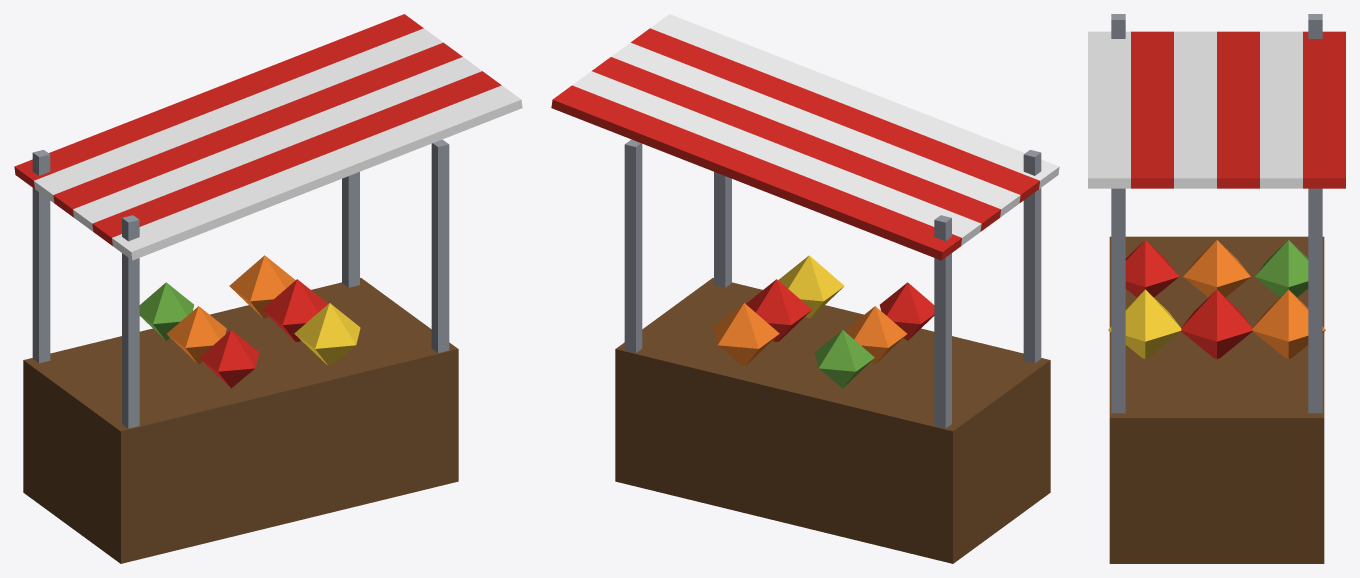
The model's file is puesto_frutas.obj.
3 renders of one model, left to right at view 1: azimuth 30°, elevation 25°; view 2: azimuth 150°, elevation 25°; view 3: azimuth 270°, elevation 25°, orthographic. The views are drawn at different scales.
Visible parts, largest first — view 1: puesto_frutas; view 2: puesto_frutas; view 3: puesto_frutas.
Boxes of the visible parts, bbox=[...] form: puesto_frutas: bbox=[14, 14, 522, 563]; puesto_frutas: bbox=[551, 14, 1059, 563]; puesto_frutas: bbox=[1088, 14, 1345, 563].
Size of the model in its own units: 2.79 by 2.55 by 1.44.
